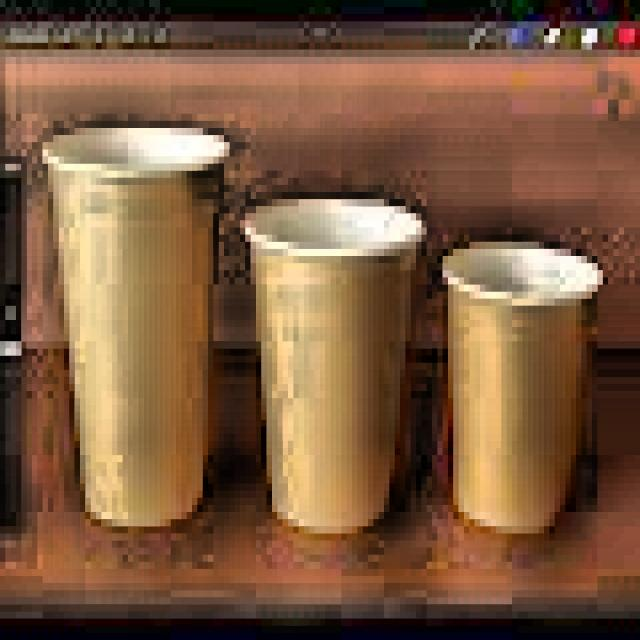Cup: (36, 116, 233, 548), (240, 195, 427, 537), (440, 231, 604, 562)
